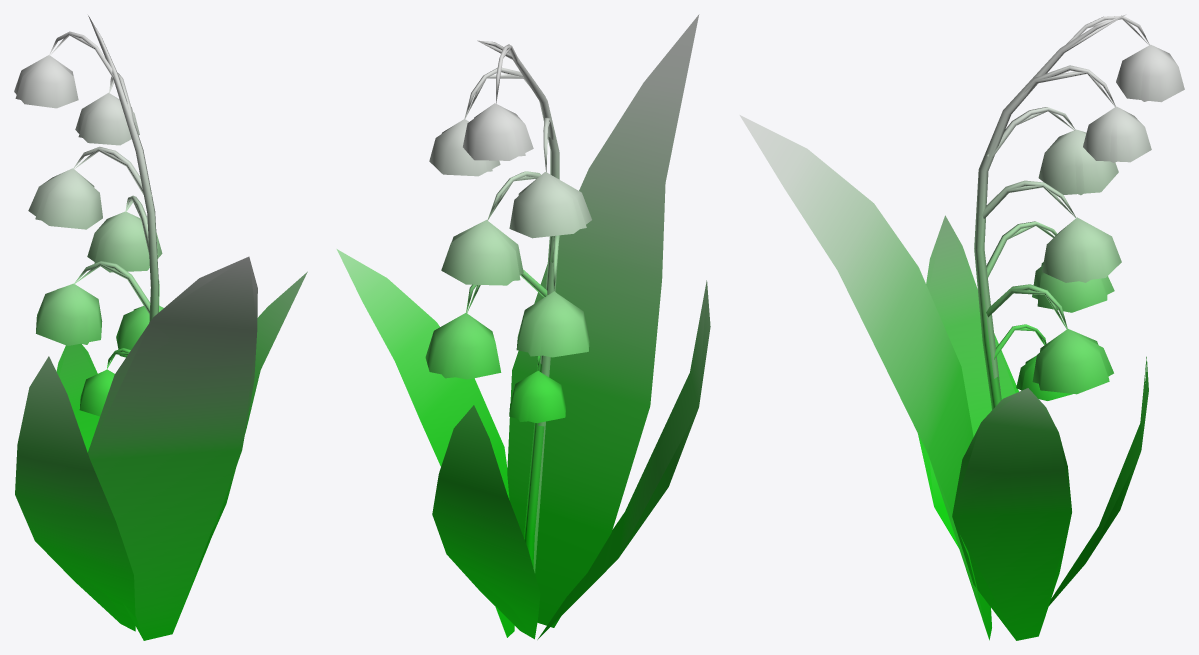
The model's file is Flower_2.fbx.
3 views of the same model, side by side, from view 1: azimuth 30°, elevation 25°; view 2: azimuth 150°, elevation 25°; view 3: azimuth 270°, elevation 25° (orthographic). The views are drawn at different scales.
Parts seen in each view (by area): view 1: Flower_2_LOD0, Flower_2; view 2: Flower_2, Flower_2_LOD0; view 3: Flower_2, Flower_2_LOD0.
Boxes of the visible parts, x1=… form: Flower_2_LOD0: x1=15, y1=16, x2=301, y2=640; Flower_2: x1=14, y1=15, x2=307, y2=640; Flower_2: x1=336, y1=14, x2=710, y2=639; Flower_2_LOD0: x1=441, y1=41, x2=706, y2=638; Flower_2: x1=739, y1=15, x2=1184, y2=640; Flower_2_LOD0: x1=847, y1=15, x2=1174, y2=640.
Size of the model in its own units: 37.29 by 66.59 by 43.54.
